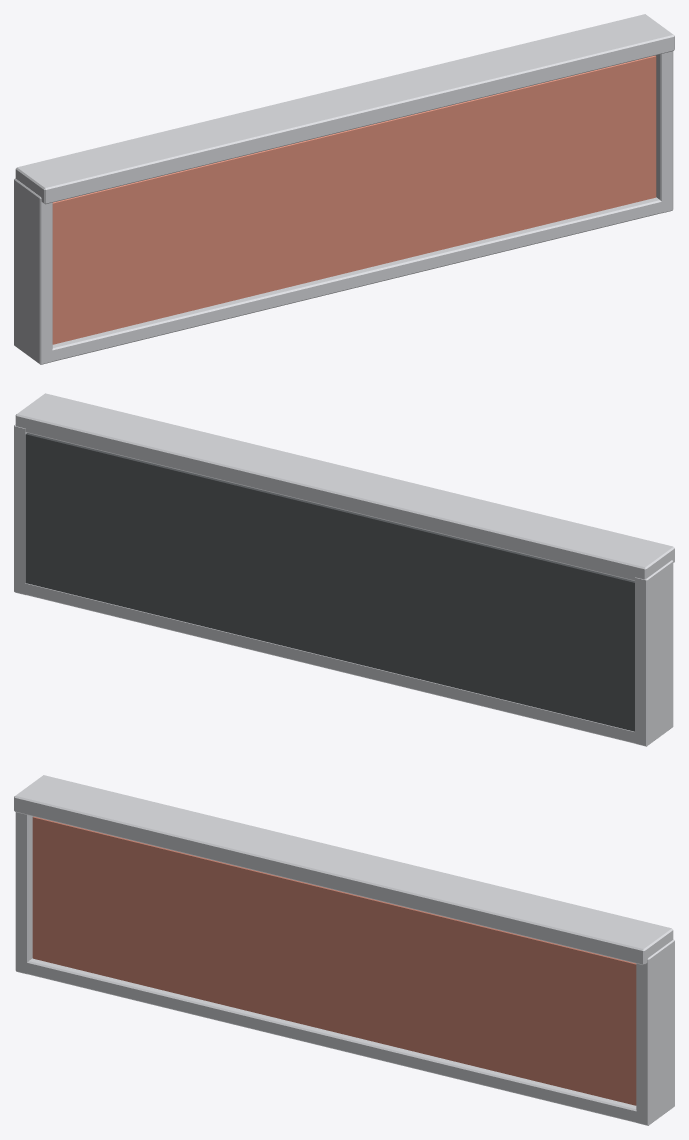
Rendered from SM_Retail_25346_FasciaSignBoard.fbx.
3 views of the same model, one above another, from view 1: azimuth 30°, elevation 25°; view 2: azimuth 150°, elevation 25°; view 3: azimuth 330°, elevation 25° (orthographic).
Visible parts, largest first — view 1: SM_Retail_25346_FasciaSignBoard; view 2: SM_Retail_25346_FasciaSignBoard; view 3: SM_Retail_25346_FasciaSignBoard.
Boxes of the visible parts, x1=… form: SM_Retail_25346_FasciaSignBoard: x1=14, y1=14, x2=674, y2=364; SM_Retail_25346_FasciaSignBoard: x1=14, y1=393, x2=674, y2=746; SM_Retail_25346_FasciaSignBoard: x1=14, y1=775, x2=674, y2=1125.
Size of the model in its own units: 245 by 20.13 by 66.01.
